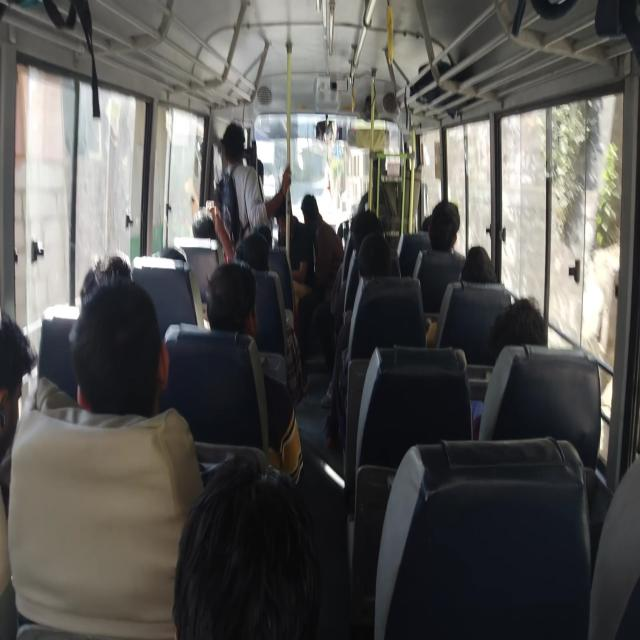person: (171, 462, 320, 640), (82, 278, 182, 456), (490, 291, 586, 399), (232, 208, 290, 282), (197, 272, 257, 340), (0, 334, 26, 462), (354, 238, 406, 301), (85, 237, 131, 308), (426, 200, 468, 256), (214, 120, 254, 169), (348, 208, 390, 252), (462, 247, 507, 282), (155, 239, 192, 269), (186, 193, 213, 231), (254, 212, 278, 250), (302, 191, 324, 230)
